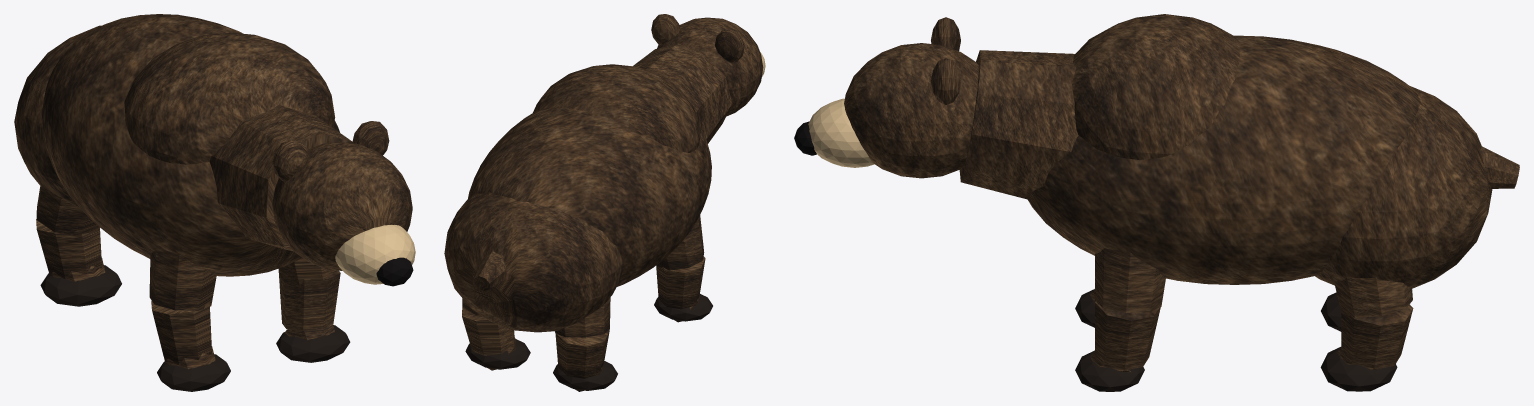
File: bear.glb
3 views of the same model, side by side, from view 1: azimuth 30°, elevation 25°; view 2: azimuth 150°, elevation 25°; view 3: azimuth 270°, elevation 25° (orthographic). The views are drawn at different scales.
Visible parts, largest first — view 1: geometry_0; view 2: geometry_0; view 3: geometry_0.
Part boxes in pixels (x1,y1,x2,y2): geometry_0: [14, 14, 415, 391]; geometry_0: [444, 14, 765, 391]; geometry_0: [794, 14, 1519, 391].
Size of the model in its own units: 0.92 by 1.19 by 2.39.
Materials: 1 (1 with a texture image).
